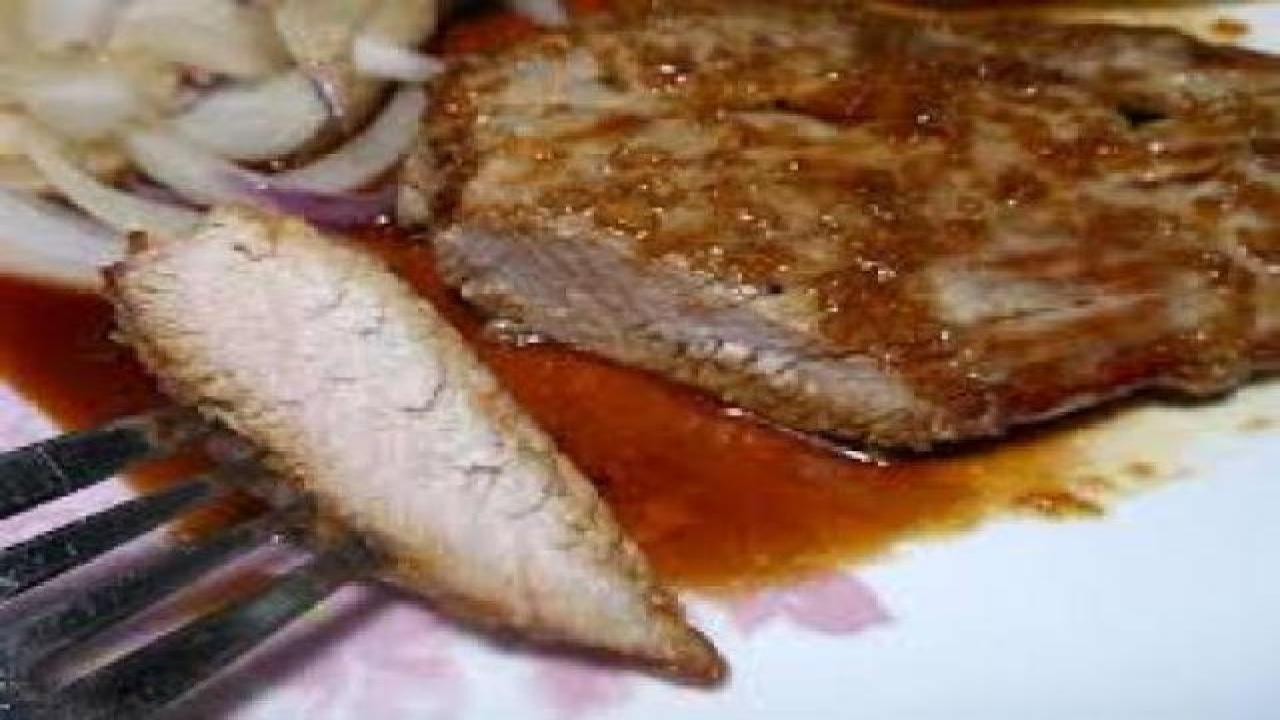done: (488, 0, 1268, 426), (103, 232, 706, 668)
